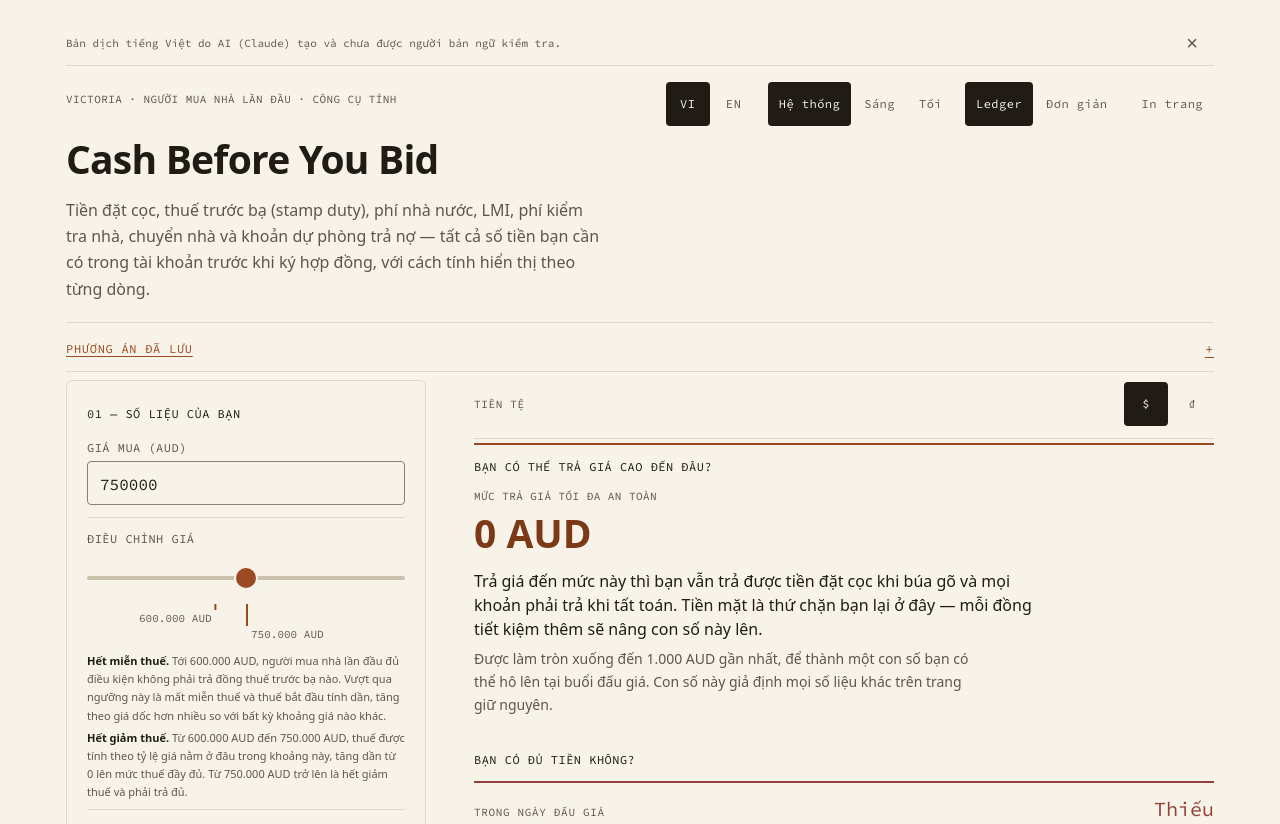
Test: currency switching › never mixes currencies inside one explanation
Expected: the field labelled "Giá mua (AUD)" is shown, [87,461,405,505]
Click the button named "Đồng Việt Nam".
click(1192, 404)  # box [1170,382,1214,426]
(page scrolled)
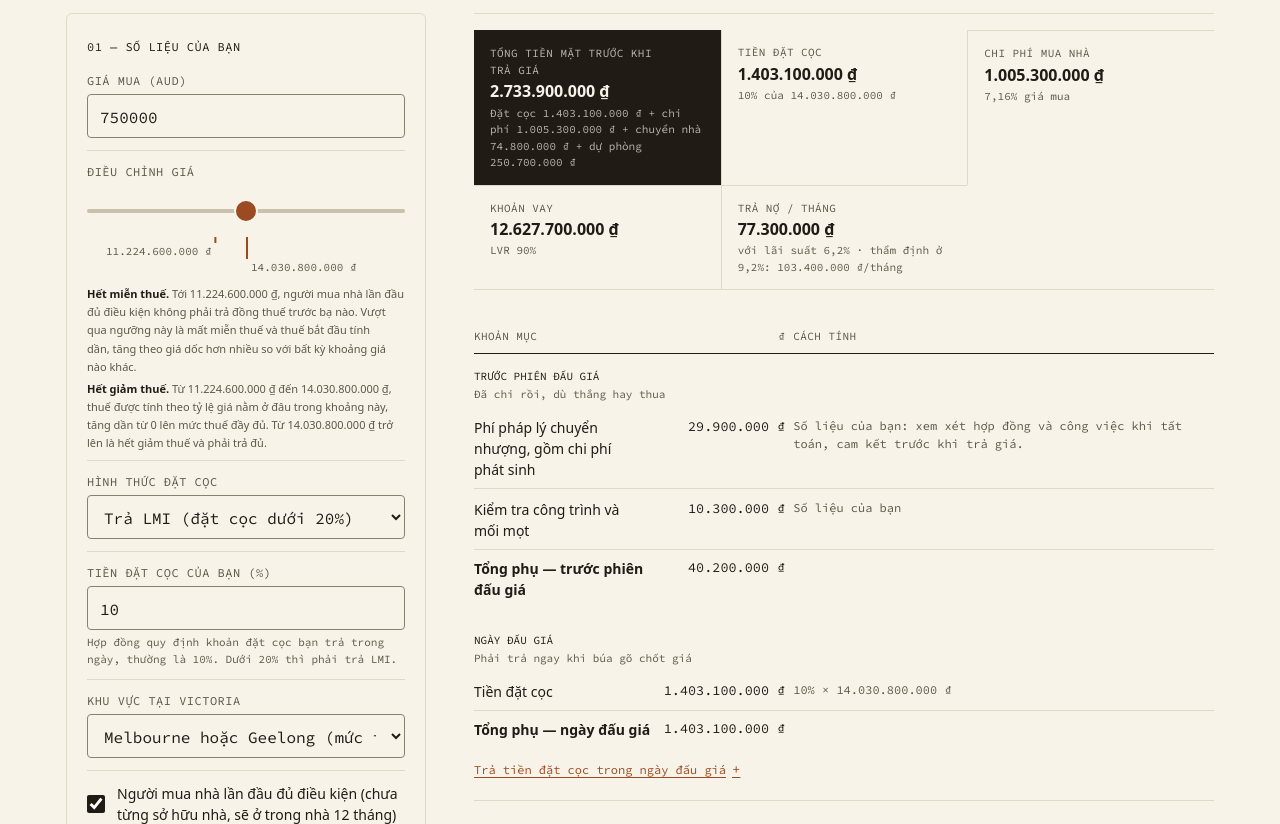
Now the cell "29.900.000 ₫" is shown, box [664,407,793,488]
